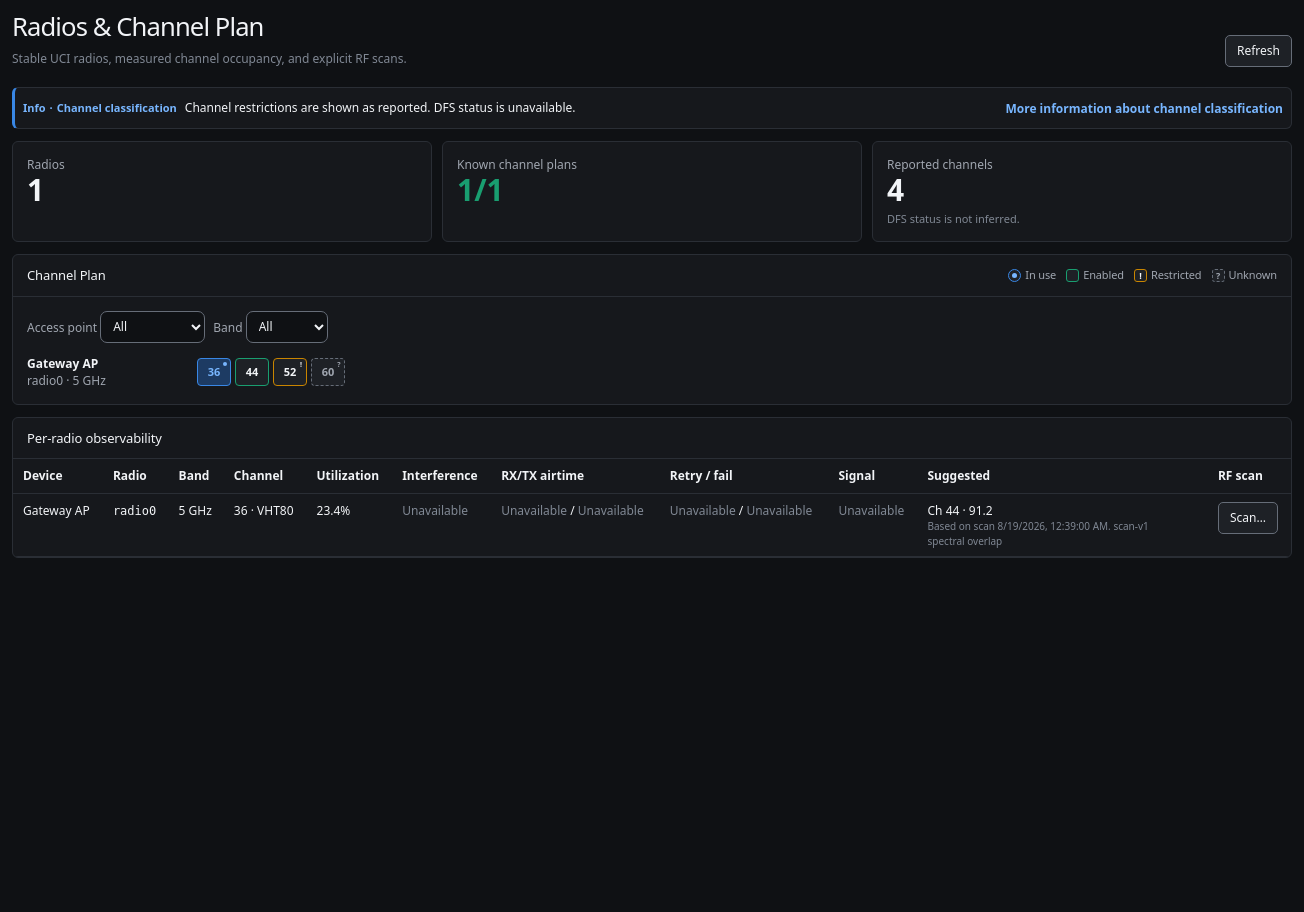
it: Radios › renders one stable radio, a categorical channel plan, and honest unavailable metrics
Expected: the header "Radios & Channel Plan" is shown, [12,12,1292,75]
Expected: the text "Stable UCI radios, measured channel occupancy" is shown, [12,50,407,67]
Click the heading "More information about channel classification".
click(1144, 108)  # box [1005,94,1283,122]
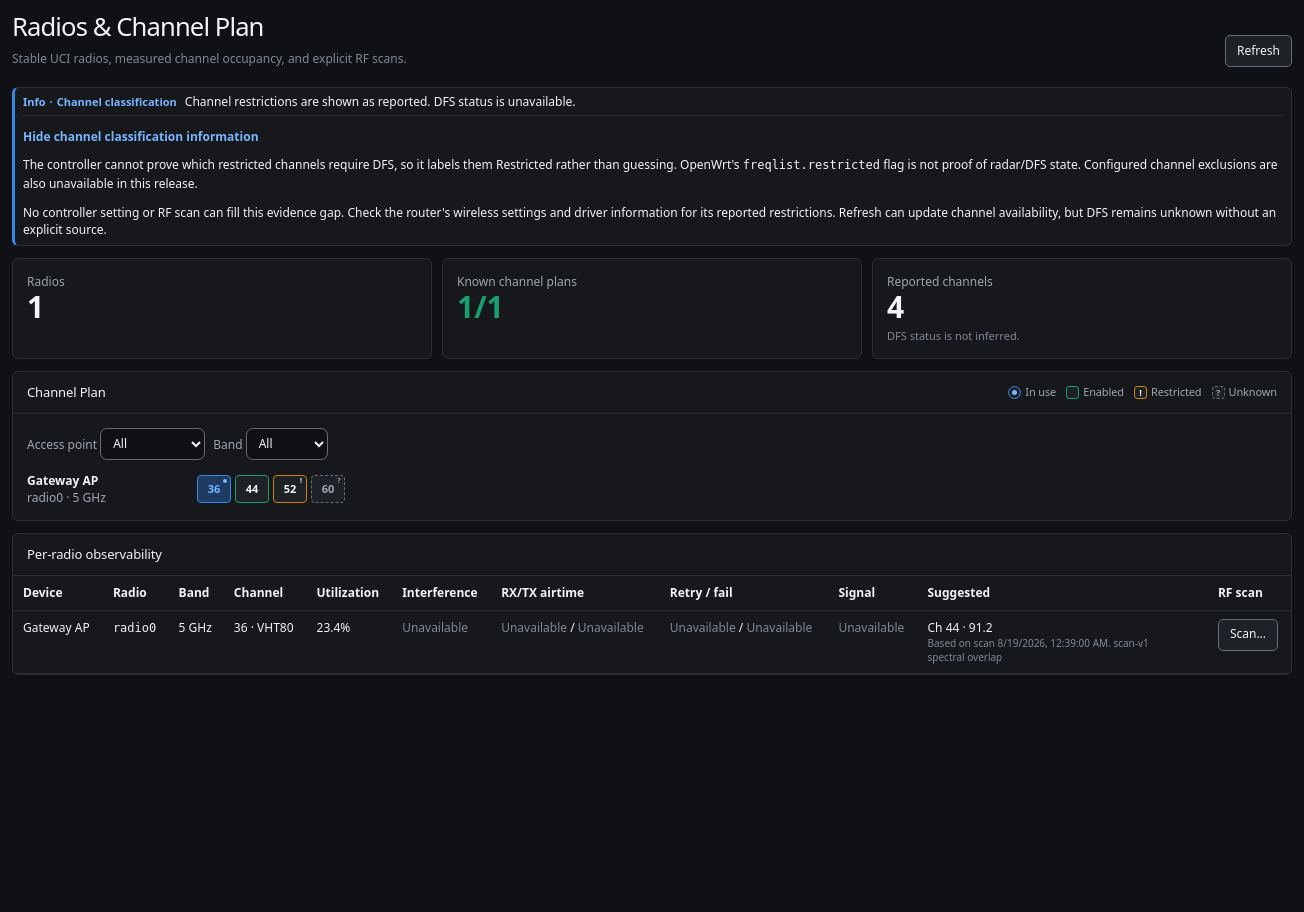
Expected: the text "cannot prove which restricted channels require DFS" is shown, [23,156,743,173]
Expected: the text "freqlist.restricted" is shown, [743,158,880,172]
Expected: the text "No controller setting or RF scan can fill this evidence gap" is shown, [23,204,1276,238]
